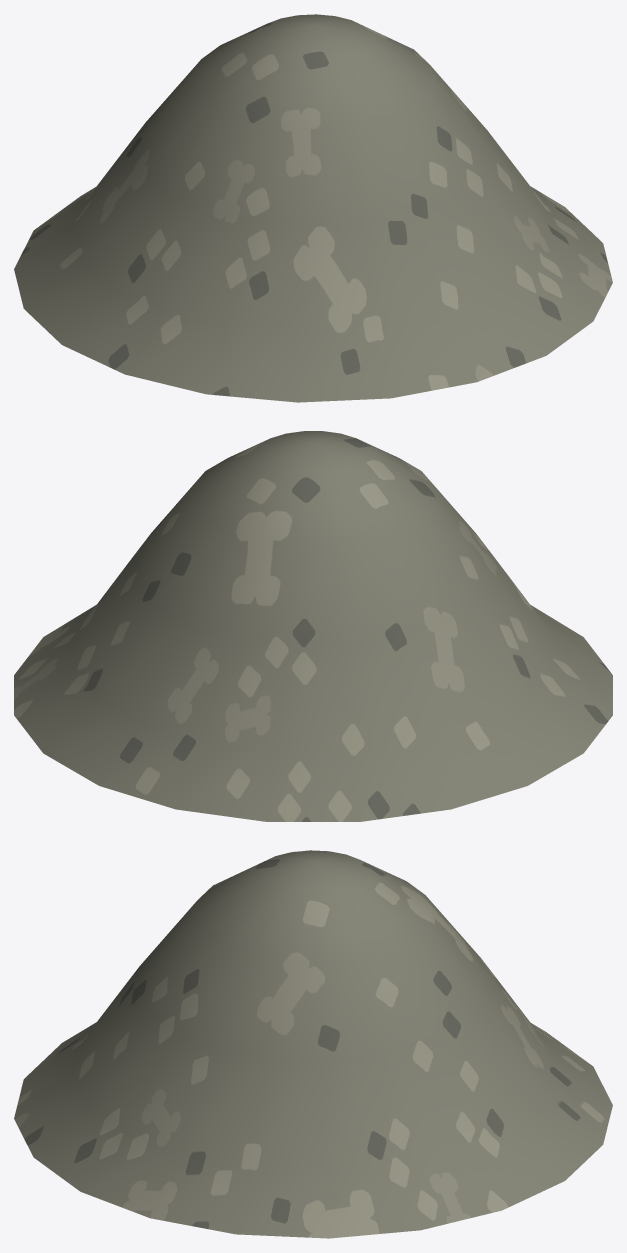
The model's file is skull_pile_large_texture.fbx.
The picture shows the model from 3 angles, top to bottom: view 1: azimuth 30°, elevation 25°; view 2: azimuth 150°, elevation 25°; view 3: azimuth 270°, elevation 25°; orthographic projection.
Parts seen in each view (by area): view 1: skull_pile_large_texture; view 2: skull_pile_large_texture; view 3: skull_pile_large_texture.
Part boxes in pixels (bbox=[...]): skull_pile_large_texture: bbox=[14, 14, 612, 402]; skull_pile_large_texture: bbox=[14, 431, 612, 821]; skull_pile_large_texture: bbox=[14, 850, 612, 1238].
Size of the model in its own units: 614 by 283 by 614.
